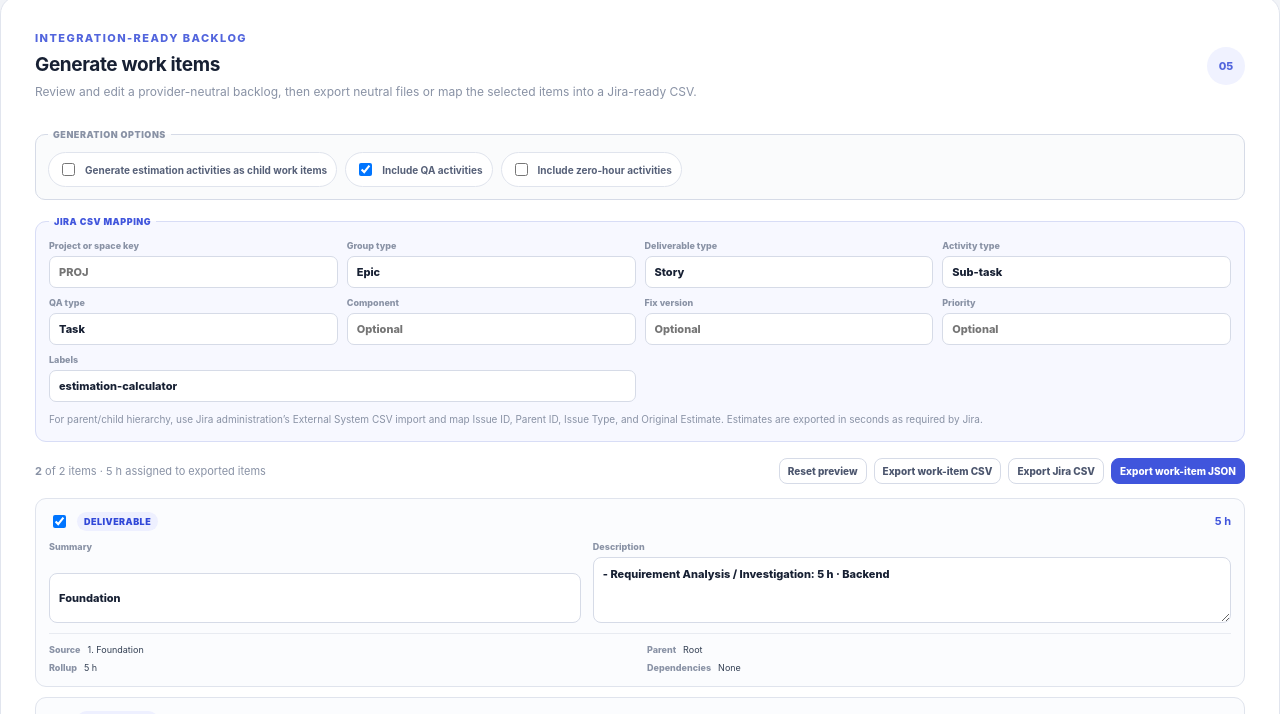
it: WorkItemGenerationPanel › generates detailed child activities without duplicating assigned hours
This screenshot has width=1280, height=714.
Click the checkbox labelled "Generate estimation activities as child work items".
click(68, 170)  # box [62,163,75,176]
(page scrolled)
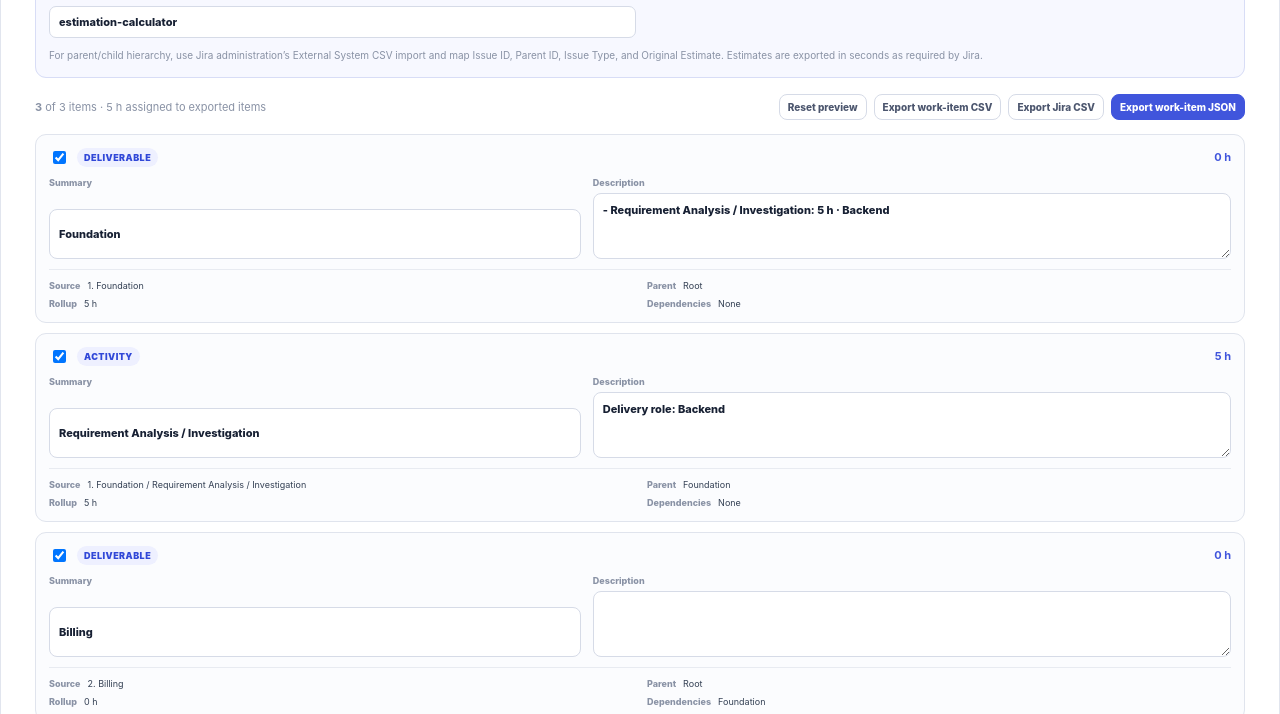
Check: the element with class "work-item-toolbar" shows "3 of 3 items", box [35,94,1245,120]
Check: the 2nd field showing "Requirement Analysis / Investigation" is shown, box [49,408,581,458]
Check: the text "activity" is shown, box [77,346,140,366]
